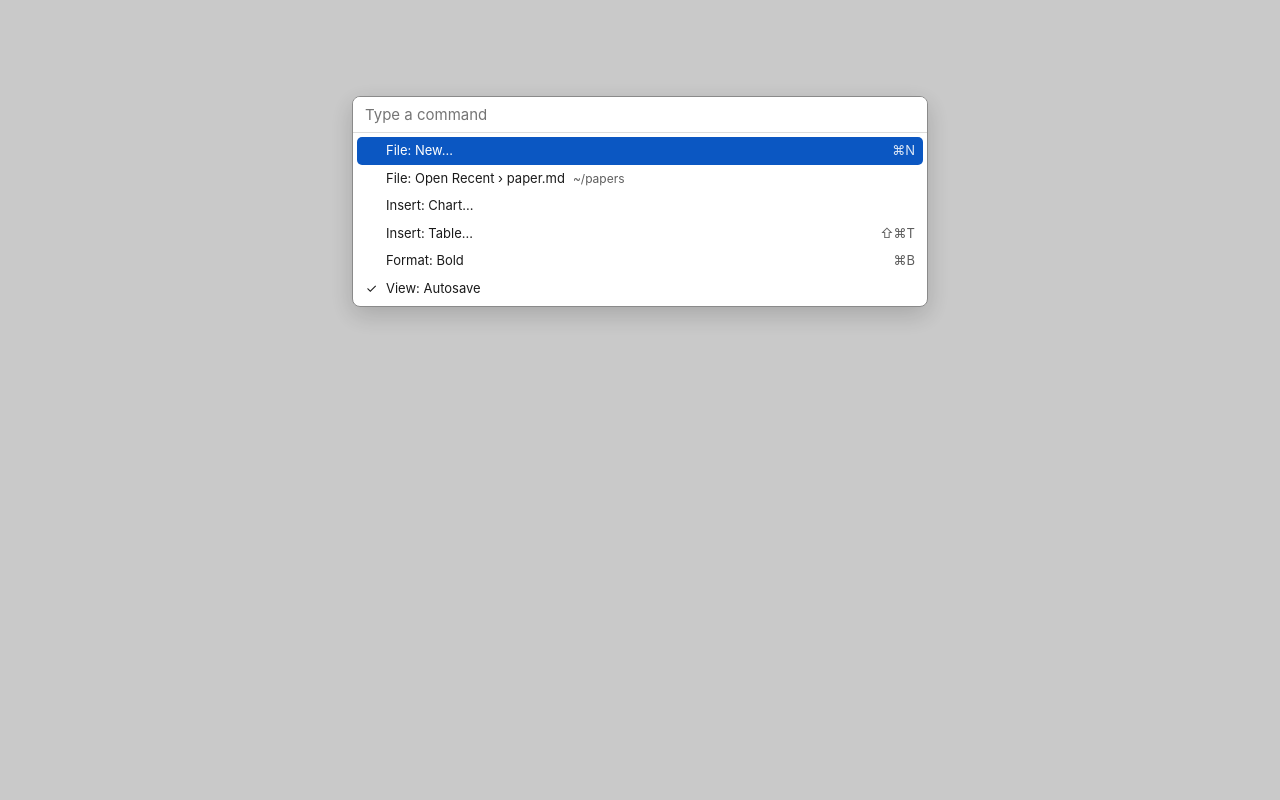
CommandPalette › finds Insert: Table… first for "tab", with its shortcut and the matched letters bold
Expected: the option "File: New… ⌘N" is shown, [357, 137, 923, 164]
Type "tab" into the dropdown with placeholder "Type a command" at (640, 115), box [353, 97, 927, 133]
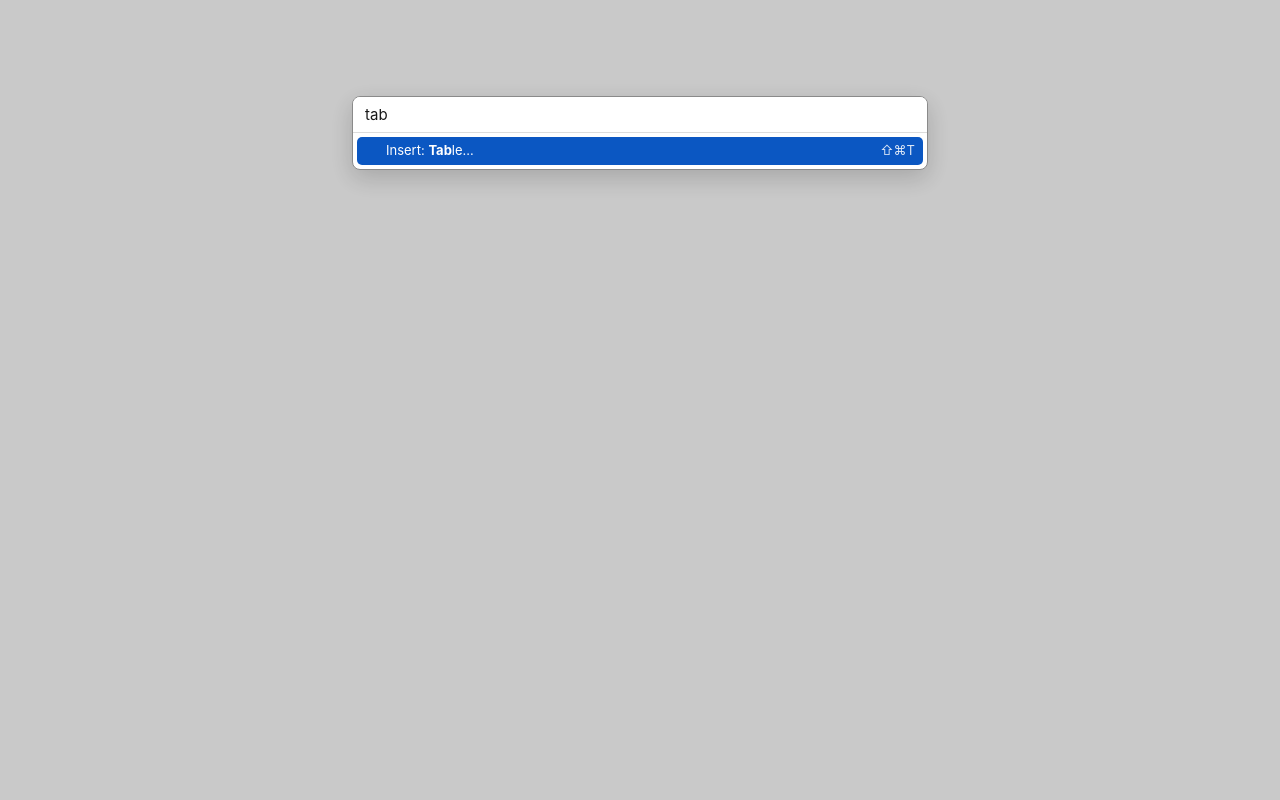
Expected: the text "⇧⌘T" is shown, [880, 141, 915, 160]
Now the element showing "Insert: Table…" is shown, box [386, 141, 474, 160]
